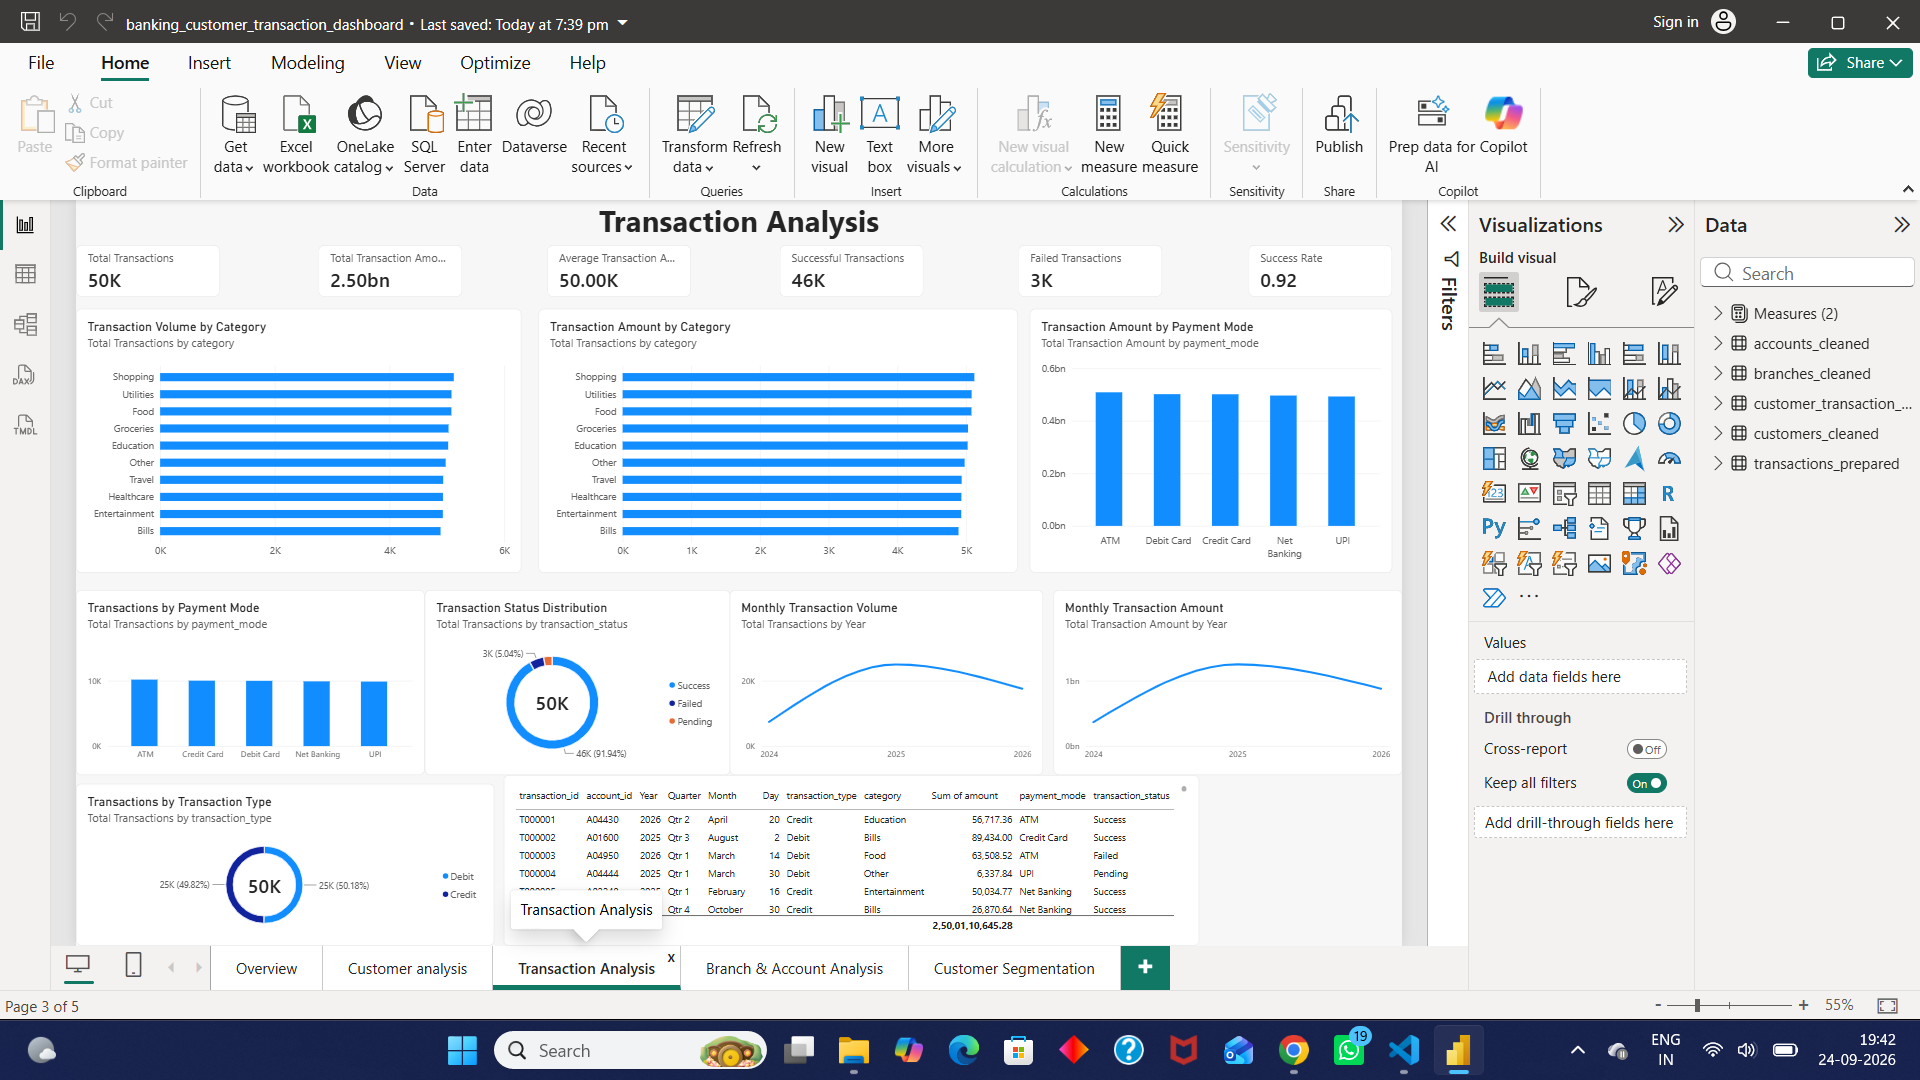

Layout of this report page (visuals, bound fields, positions):
{"tool":"powerbi","page":{"name":"Transaction Analysis","canvas":[1920,1080],"ordinal":2},"visuals":[{"type":"textbox","box":[0,0,1920.1,65.1],"z":0},{"type":"cardVisual","fields":{"Data":["Measures (2).Total Transactions"]},"box":[0,65.6,208.2,75],"z":1},{"type":"cardVisual","fields":{"Data":["Measures (2).Total Transaction Amount"]},"box":[350.7,65.6,208.2,75],"z":2},{"type":"cardVisual","fields":{"Data":["Measures (2).Average Transaction Amount"]},"box":[682.6,65.6,208.2,75],"z":3},{"type":"cardVisual","fields":{"Data":["Measures (2).Successful Transactions"]},"box":[1018.3,65.6,208.2,75],"z":4},{"type":"cardVisual","fields":{"Data":["Measures (2).Failed Transactions"]},"box":[1365.3,65.6,208.2,75],"z":5},{"type":"cardVisual","fields":{"Data":["Measures (2).Success Rate"]},"box":[1697.2,65.6,208.2,75],"z":6},{"type":"donutChart","title":"Transactions by Transaction Type","fields":{"Category":["transactions_prepared.transaction_type"],"Y":["Measures (2).Total Transactions"]},"box":[0,845.8,605.7,234.4],"z":7},{"type":"barChart","title":"Transaction Amount by Category","fields":{"Category":["transactions_prepared.category"],"Y":["Measures (2).Total Transactions"]},"box":[669.5,157.5,693.9,382.6],"z":8},{"type":"barChart","title":"Transaction Volume by Category","fields":{"Category":["transactions_prepared.category"],"Y":["Measures (2).Total Transactions"]},"box":[0,157.5,645.1,382.6],"z":9},{"type":"columnChart","title":"Transactions by Payment Mode","fields":{"Category":["transactions_prepared.payment_mode"],"Y":["Measures (2).Total Transactions"]},"box":[0,564.5,504.5,268.2],"z":10},{"type":"columnChart","title":"Transaction Amount by Payment Mode","fields":{"Category":["transactions_prepared.payment_mode"],"Y":["Measures (2).Total Transaction Amount"]},"box":[1380.3,157.5,525.1,382.6],"z":11},{"type":"donutChart","title":"Transaction Status Distribution","fields":{"Category":["transactions_prepared.transaction_status"],"Y":["Measures (2).Total Transactions"]},"box":[504.5,564.5,442.6,268.2],"z":12},{"type":"lineChart","title":"Monthly Transaction Volume","fields":{"Category":["transactions_prepared.transaction_date.Variation.Date Hierarchy.Year","transactions_prepared.transaction_date.Variation.Date Hierarchy.Quarter","transactions_prepared.transaction_date.Variation.Date Hierarchy.Month","transactions_prepared.transaction_date.Variation.Date Hierarchy.Day"],"Y":["Measures (2).Total Transactions"]},"box":[947.1,564.5,453.8,268.2],"z":13},{"type":"lineChart","title":"Monthly Transaction Amount","fields":{"Category":["transactions_prepared.transaction_date.Variation.Date Hierarchy.Year","transactions_prepared.transaction_date.Variation.Date Hierarchy.Quarter","transactions_prepared.transaction_date.Variation.Date Hierarchy.Month","transactions_prepared.transaction_date.Variation.Date Hierarchy.Day"],"Y":["Measures (2).Total Transaction Amount"]},"box":[1415.9,564.5,504.5,268.2],"z":14},{"type":"tableEx","fields":{"Values":["transactions_prepared.transaction_id","transactions_prepared.account_id","transactions_prepared.transaction_date.Variation.Date Hierarchy.Year","transactions_prepared.transaction_date.Variation.Date Hierarchy.Quarter","transactions_prepared.transaction_date.Variation.Date Hierarchy.Month","transactions_prepared.transaction_date.Variation.Date Hierarchy.Day","transactions_prepared.transaction_type","transactions_prepared.category","Sum(transactions_prepared.amount)","transactions_prepared.payment_mode","transactions_prepared.transaction_status"]},"box":[618.9,832.7,1007.1,247.5],"z":20}]}

Visuals, with their boxes on the page's 1920x1080 design canvas (x1, y1, x2, y2). These are canvas units, not pixel positions in the 1920x1080 screenshot, which may show the page scaled, cropped or inside an application window:
textbox: (0,0,1920,65)
cardVisual - Measures (2).Total Transactions: (0,66,208,141)
cardVisual - Measures (2).Total Transaction Amount: (351,66,559,141)
cardVisual - Measures (2).Average Transaction Amount: (683,66,891,141)
cardVisual - Measures (2).Successful Transactions: (1018,66,1226,141)
cardVisual - Measures (2).Failed Transactions: (1365,66,1574,141)
cardVisual - Measures (2).Success Rate: (1697,66,1905,141)
"Transactions by Transaction Type" donutChart: (0,846,606,1080)
"Transaction Amount by Category" barChart: (670,158,1363,540)
"Transaction Volume by Category" barChart: (0,158,645,540)
"Transactions by Payment Mode" columnChart: (0,564,504,833)
"Transaction Amount by Payment Mode" columnChart: (1380,158,1905,540)
"Transaction Status Distribution" donutChart: (504,564,947,833)
"Monthly Transaction Volume" lineChart: (947,564,1401,833)
"Monthly Transaction Amount" lineChart: (1416,564,1920,833)
tableEx - transactions_prepared.transaction_id x transactions_prepared.account_id: (619,833,1626,1080)
